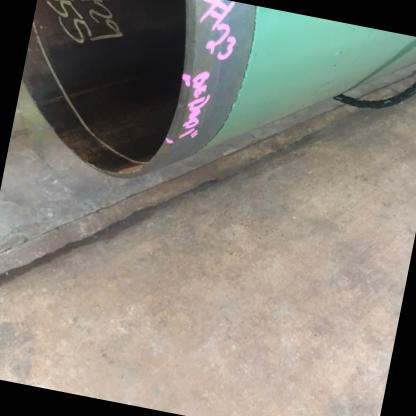Bevel: (124, 164, 146, 176), (172, 96, 186, 114)
